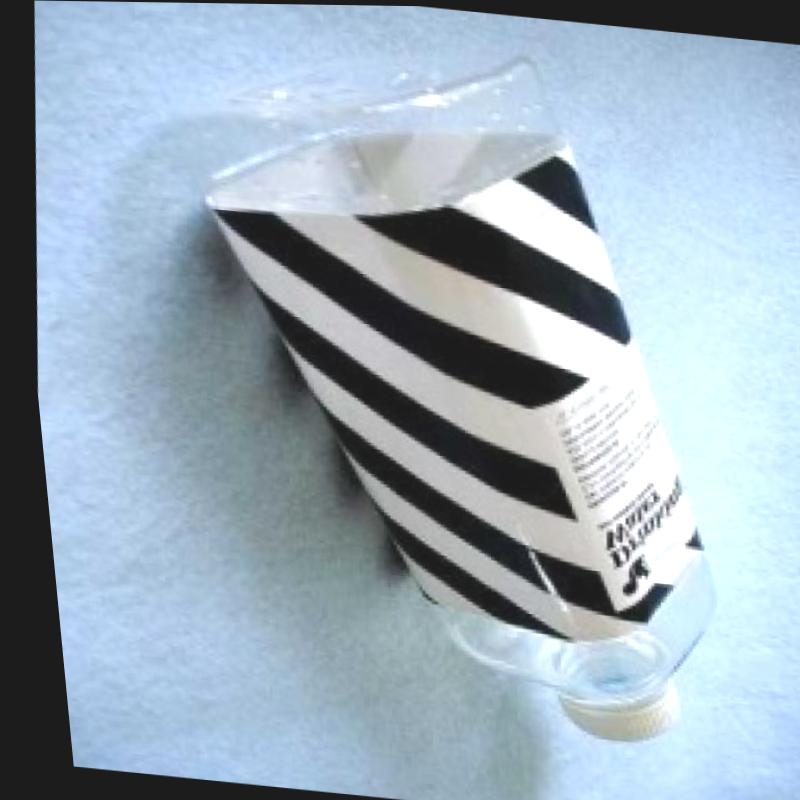botella: (131, 19, 762, 750)
